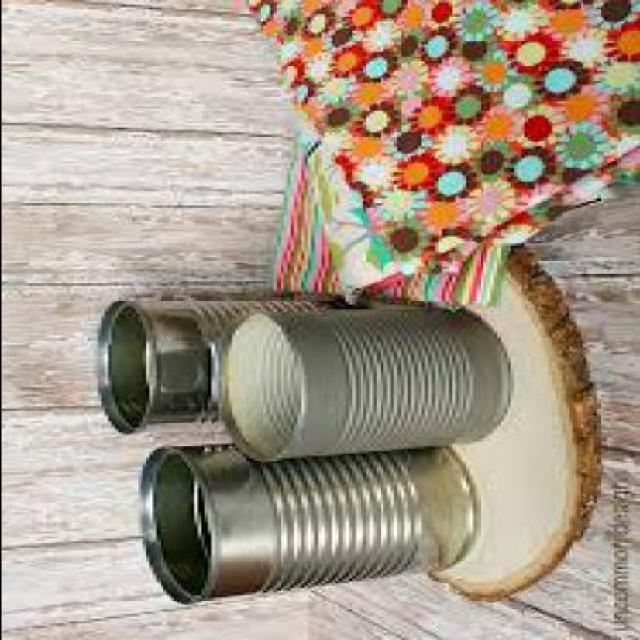METAL: (134, 446, 475, 608), (214, 309, 512, 463), (93, 300, 355, 437)
